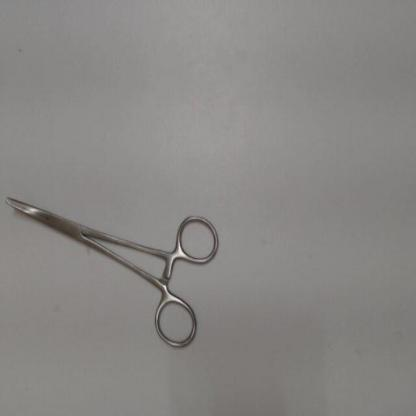Crile Artery Forceps: (2, 192, 221, 360)
